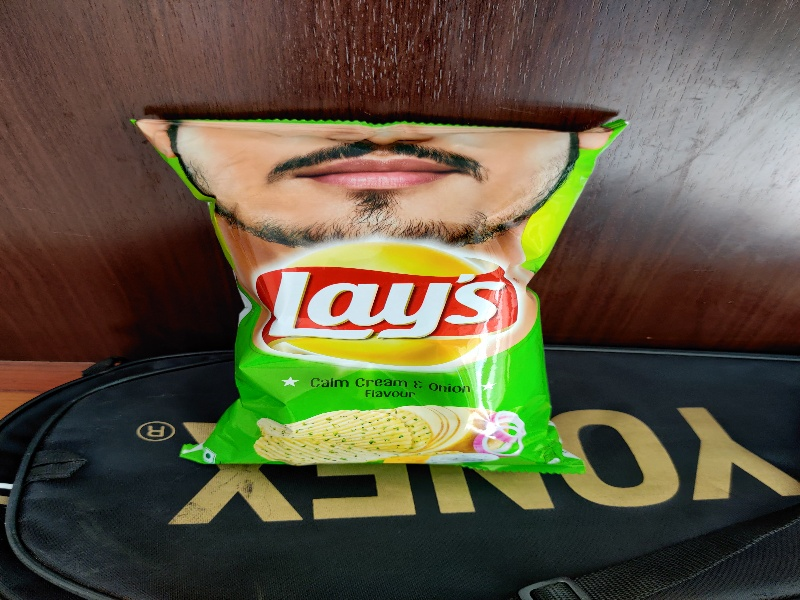lays: (124, 105, 612, 478)
